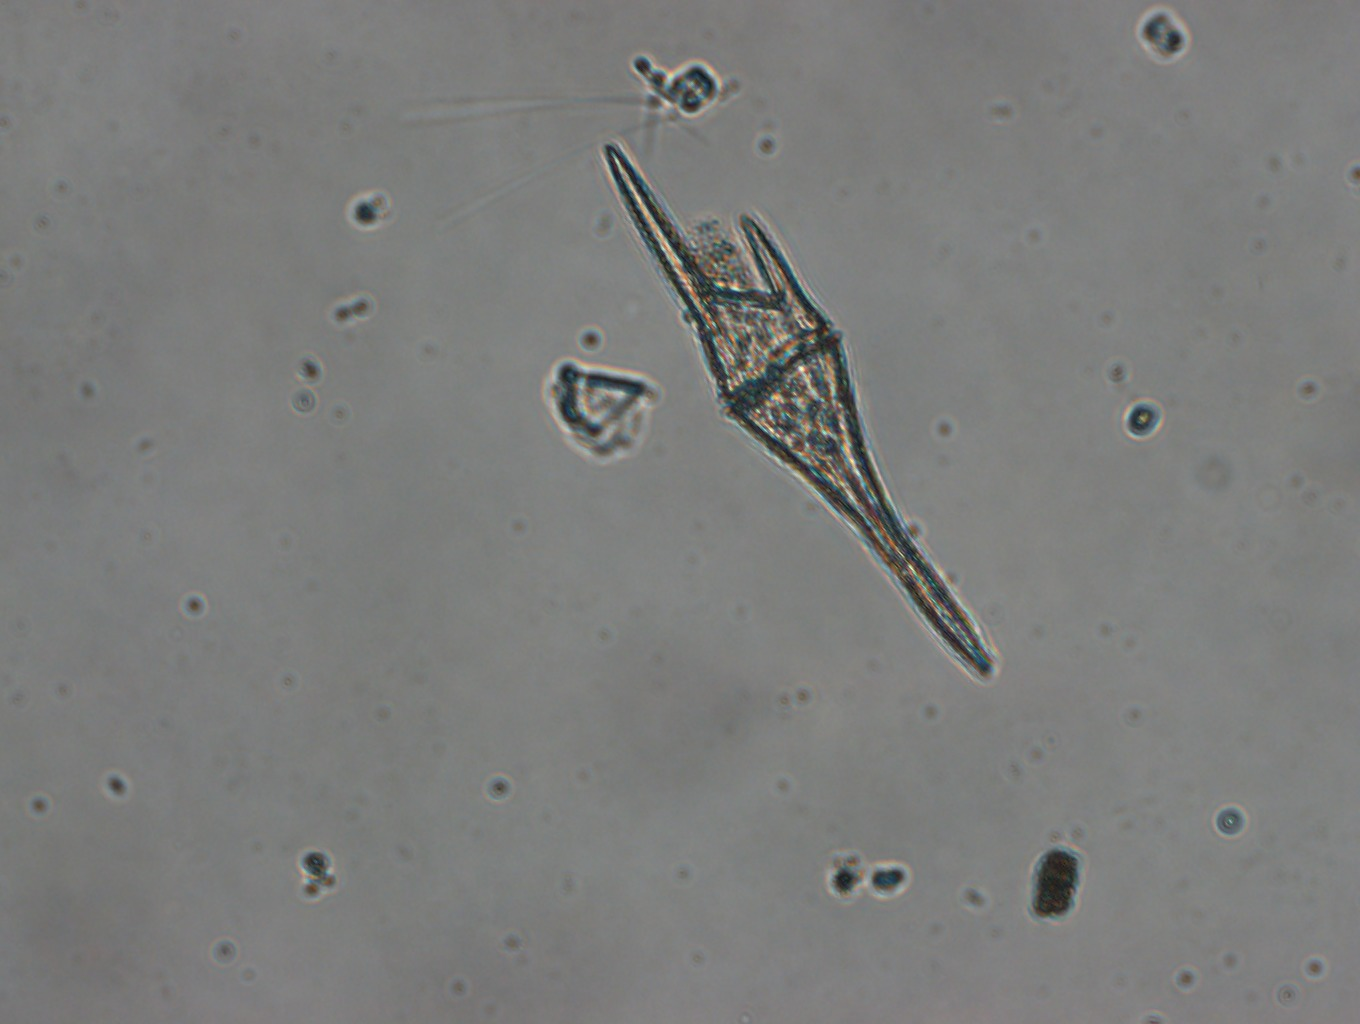ceratium furca: (600, 137, 1003, 689)
